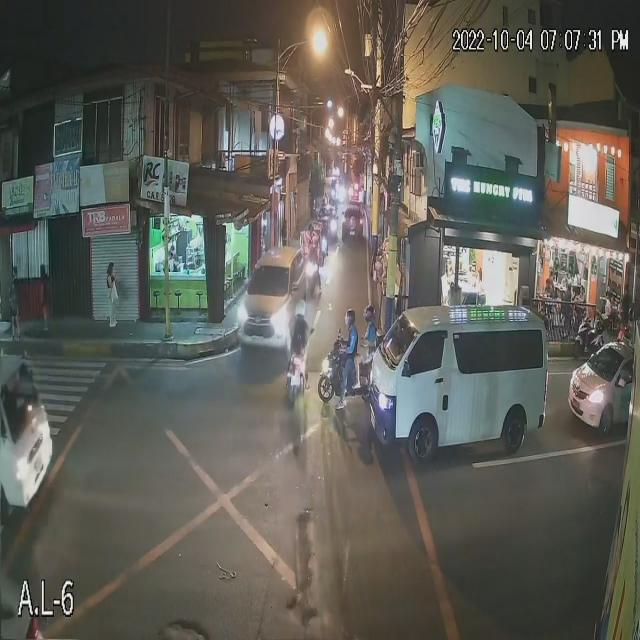helmet: (341, 306, 356, 326), (295, 296, 308, 318), (362, 304, 377, 320)
motorcycle: (317, 355, 370, 405), (284, 344, 309, 400), (300, 253, 321, 302)
rider: (334, 328, 359, 403), (287, 319, 312, 386), (354, 324, 378, 388)
